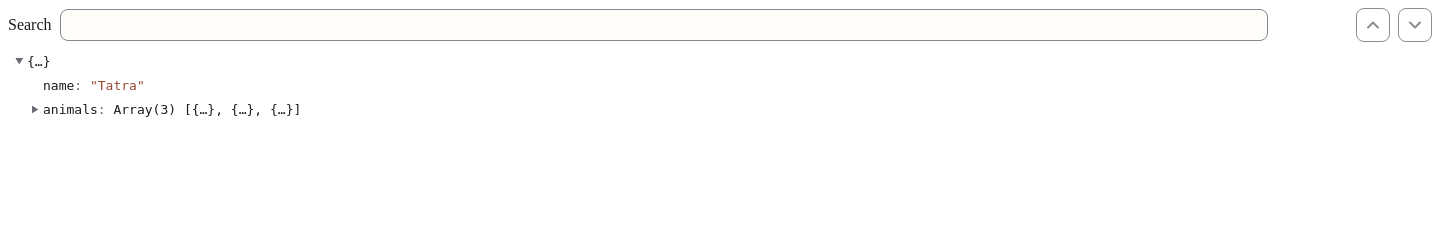
ObjectInspector contract › search › goes back to the count when another row is selected by hand
The image size is (1440, 229).
Type "chamois" into the search field.
click(664, 25); type("chamois")  # box left=60, top=9, right=1268, bottom=41
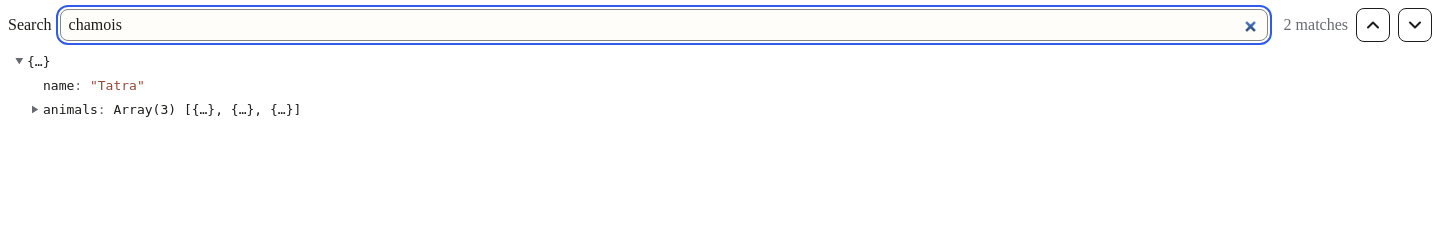
Press Enter
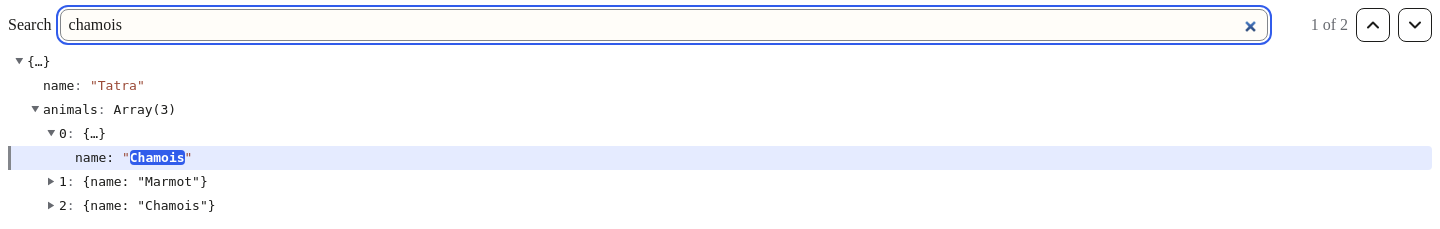
Result: the text "1 of 2" is shown at left=1311, top=16, right=1348, bottom=33
Click the list item "name: \"Tatra\"".
click(94, 85)  # box left=43, top=78, right=145, bottom=93
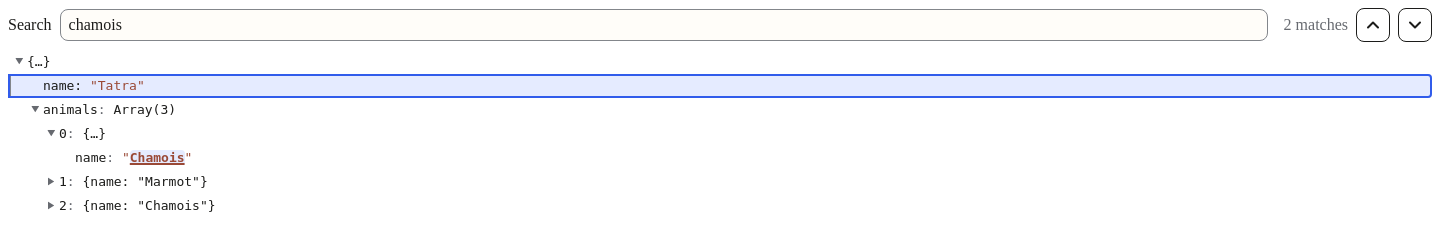
Result: the text "2 matches" is shown at left=1276, top=16, right=1348, bottom=34
